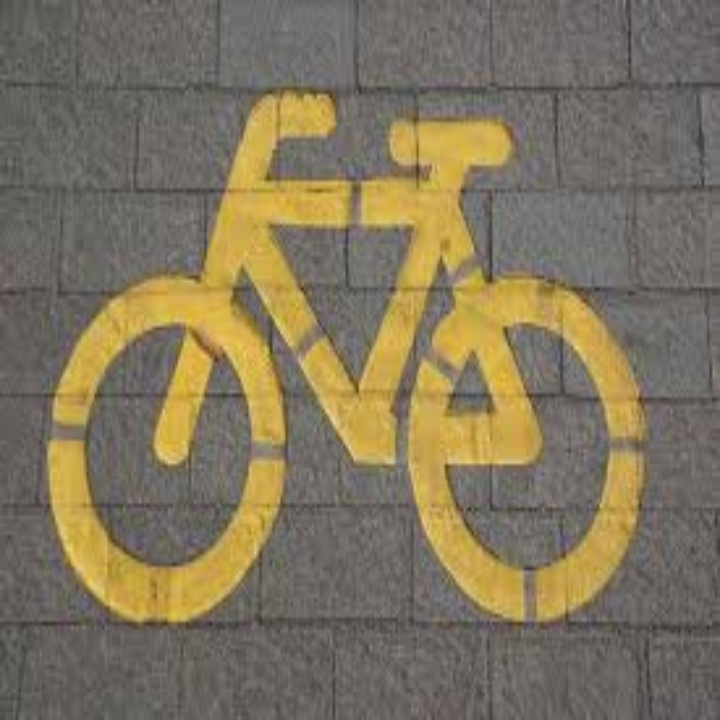bicycle: (27, 78, 664, 638)
